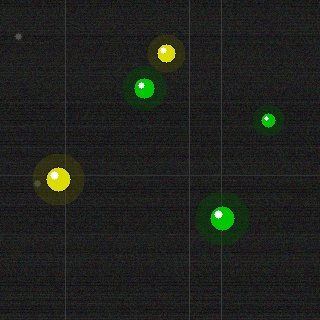green_normal: (208, 204, 236, 232), (132, 76, 156, 100), (259, 111, 277, 129)
yellow_warning: (44, 165, 72, 193), (155, 42, 177, 64)
